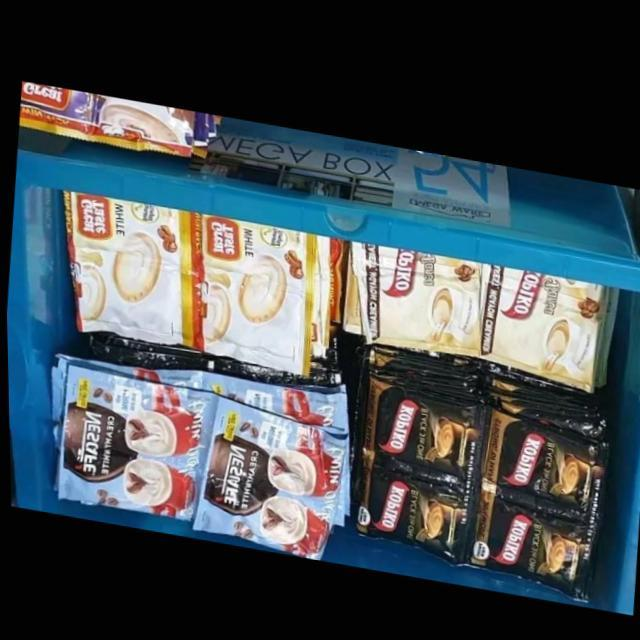wrapper: (56, 362, 218, 524), (190, 393, 345, 555), (475, 255, 600, 384), (460, 477, 598, 592), (476, 396, 612, 507), (349, 234, 479, 347), (350, 443, 475, 559), (351, 364, 483, 473), (67, 245, 196, 349), (195, 262, 312, 373), (18, 81, 195, 149), (61, 189, 198, 263), (198, 212, 314, 287)
